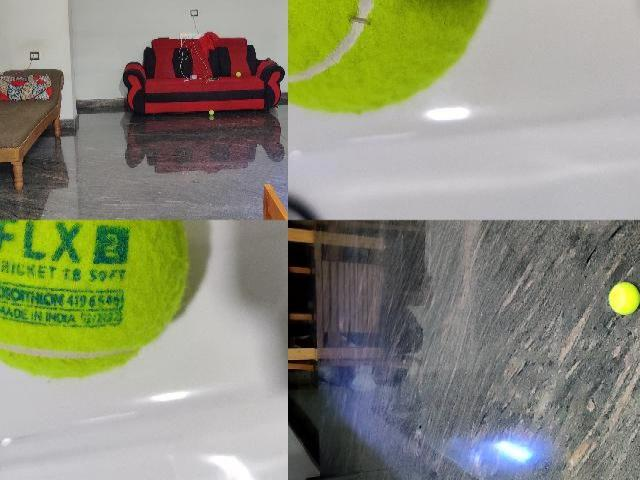tennis-ball: (0, 220, 190, 381), (288, 0, 500, 116), (608, 281, 639, 315), (208, 110, 214, 114), (236, 72, 240, 76)
